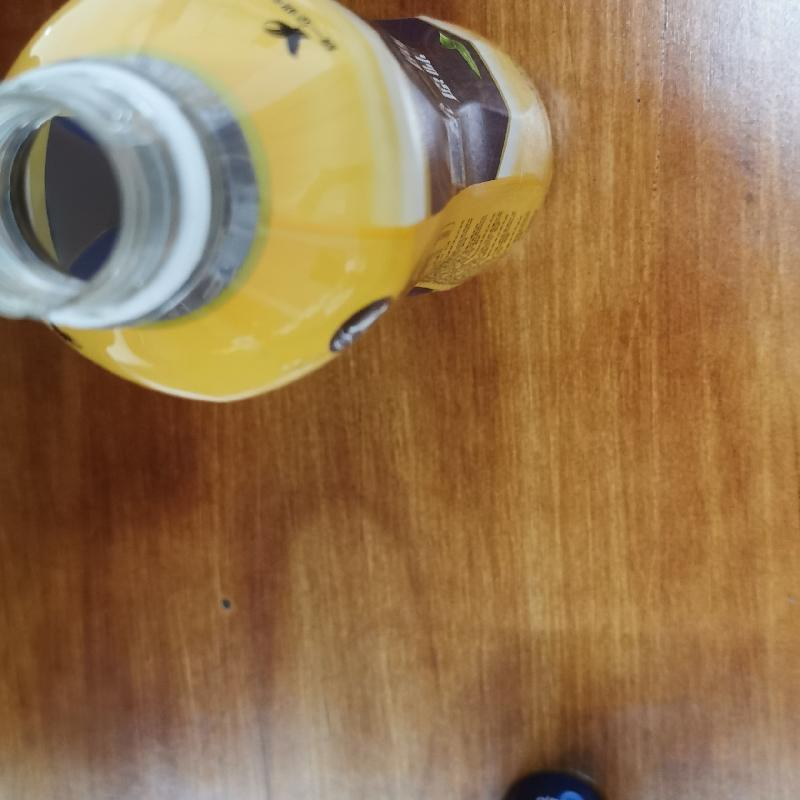bottles: (0, 0, 581, 409)
